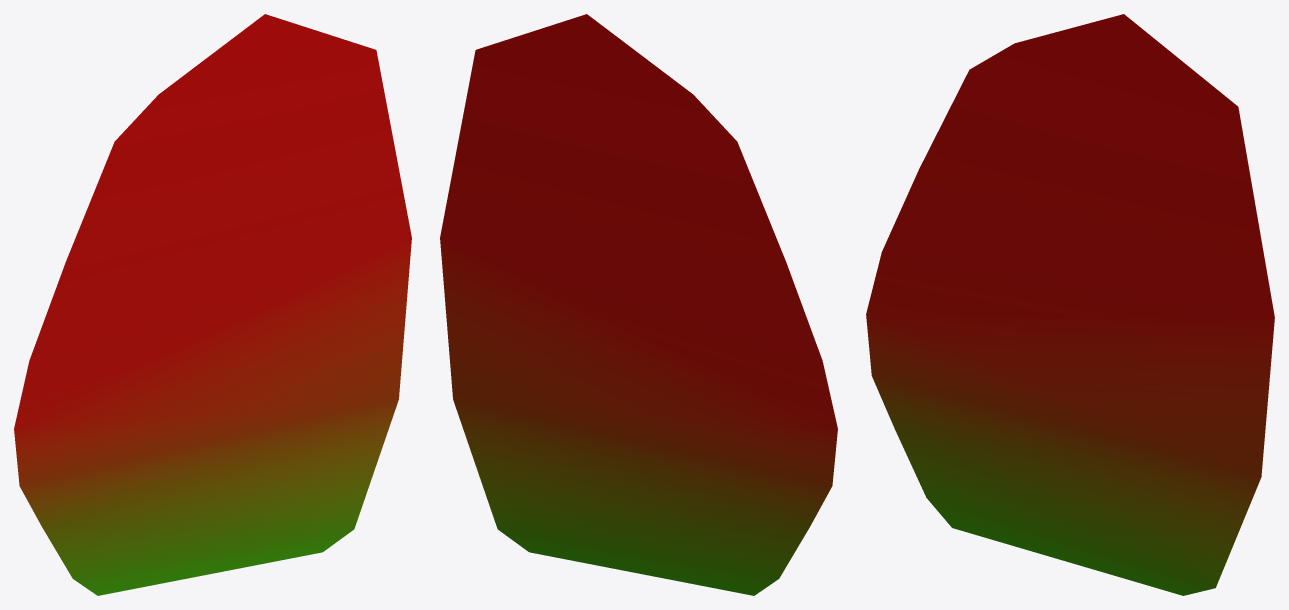
Rendered from Var1_LOD7.fbx.
3 views of the same model, side by side, from view 1: azimuth 30°, elevation 25°; view 2: azimuth 150°, elevation 25°; view 3: azimuth 330°, elevation 25° (orthographic). The views are drawn at different scales.
Visible parts, largest first — view 1: _j01f_Var1_LOD7; view 2: _j01f_Var1_LOD7; view 3: _j01f_Var1_LOD7.
Boxes of the visible parts, box(x1,y1,x2,y2) form: _j01f_Var1_LOD7: box(14, 14, 411, 595); _j01f_Var1_LOD7: box(440, 14, 837, 595); _j01f_Var1_LOD7: box(866, 14, 1274, 595).
Size of the model in its own units: 32.88 by 43.61 by 1.29e-06.
